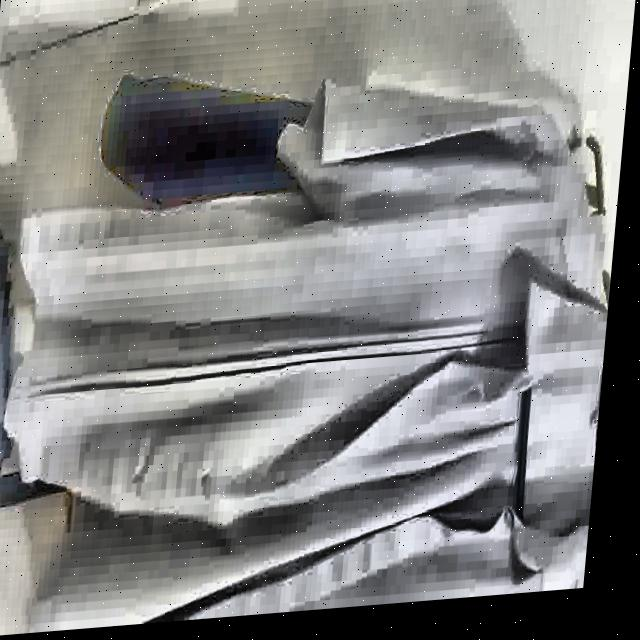clothes: (0, 63, 630, 637)
